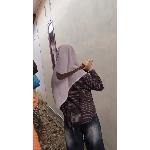Golok: (52, 58, 96, 84)
